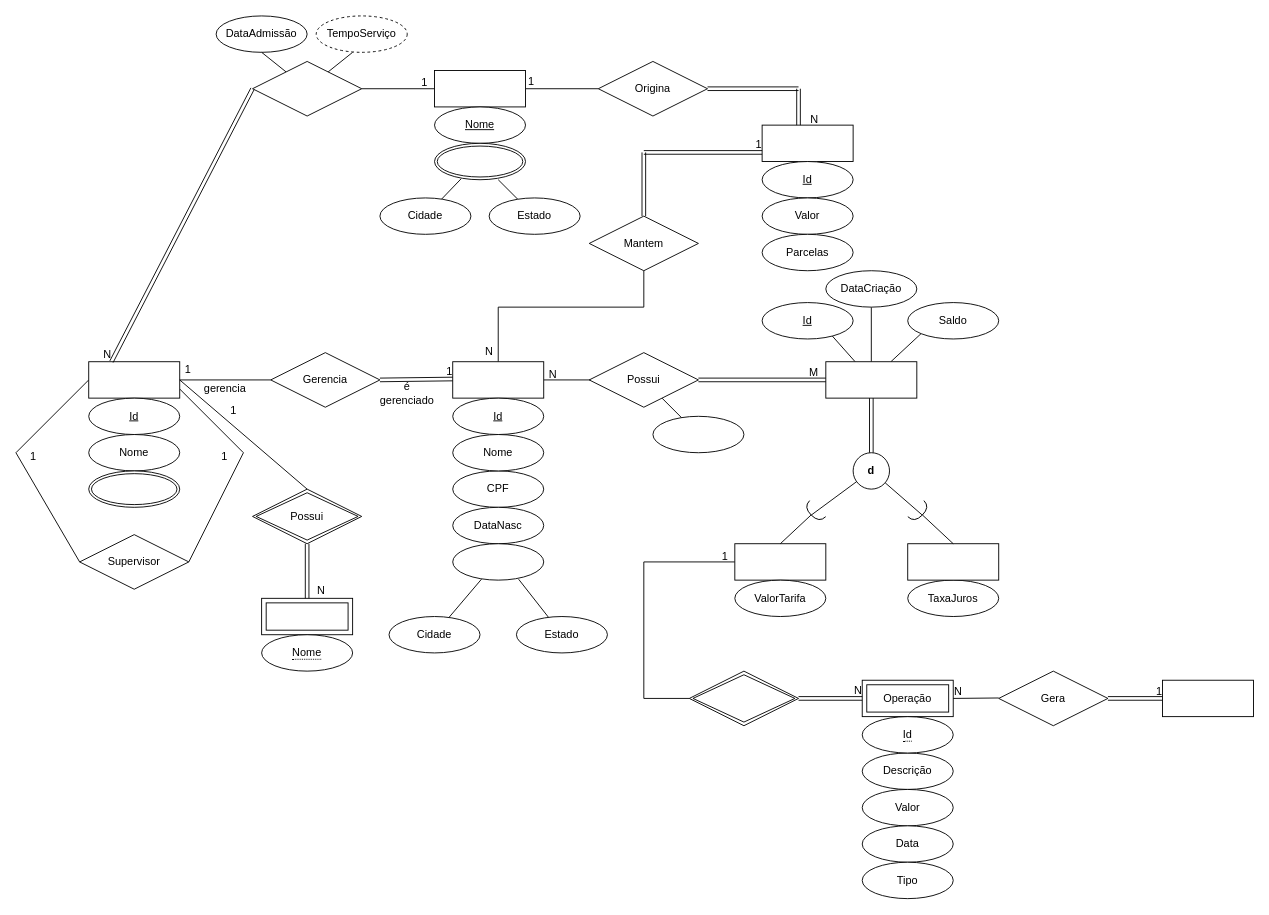
This 1269x915 diagram has some shape labels left out. Each missing label, with the box of its shape:
Agência: (434, 70, 526, 107)
Cliente: (452, 361, 544, 398)
Conta: (825, 361, 917, 398)
Corrente: (734, 543, 826, 580)
Cupom: (1162, 679, 1254, 717)
DataAcesso: (652, 415, 744, 453)
Dependentes: (261, 597, 353, 635)
Emprestimo: (761, 124, 853, 162)
Endereço: (452, 543, 544, 580)
Faz: (688, 670, 799, 726)
Funcionário: (88, 361, 180, 398)
Localização: (434, 142, 526, 180)
NumTelefone: (88, 470, 180, 507)
Poupança: (907, 543, 999, 580)
Vinculado: (252, 61, 362, 116)
